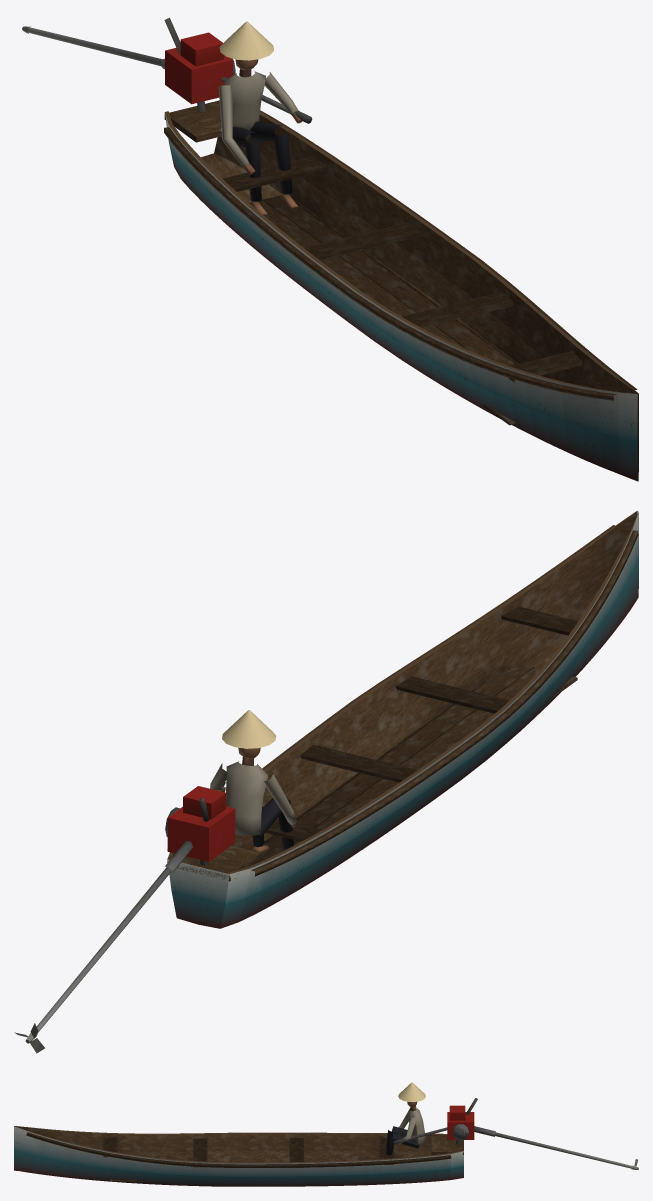
Rendered from longtail.glb.
3 renders of one model, top to bottom at view 1: azimuth 30°, elevation 25°; view 2: azimuth 150°, elevation 25°; view 3: azimuth 270°, elevation 25°, orthographic. The views are drawn at different scales.
Visible parts, largest first — view 1: longtail_hull, longtail_driver; view 2: longtail_hull, longtail_driver; view 3: longtail_hull, longtail_driver.
Part boxes in pixels (x1=…): longtail_hull: x1=27, y1=17, x2=638, y2=481; longtail_driver: x1=218, y1=21, x2=302, y2=216; longtail_hull: x1=36, y1=510, x2=638, y2=1033; longtail_driver: x1=210, y1=710, x2=296, y2=852; longtail_hull: x1=14, y1=1098, x2=632, y2=1186; longtail_driver: x1=385, y1=1082, x2=426, y2=1155.
Bounding box in the file's own units: 1.22 × 1.62 × 9.72.
Materials: 6 (4 with a texture image).
